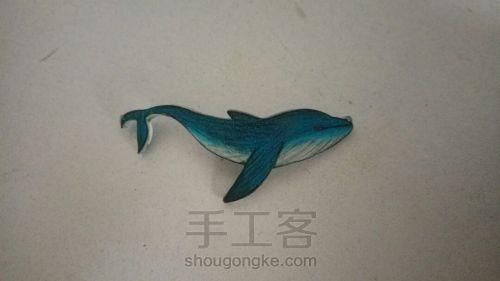fish: (116, 100, 358, 196)
